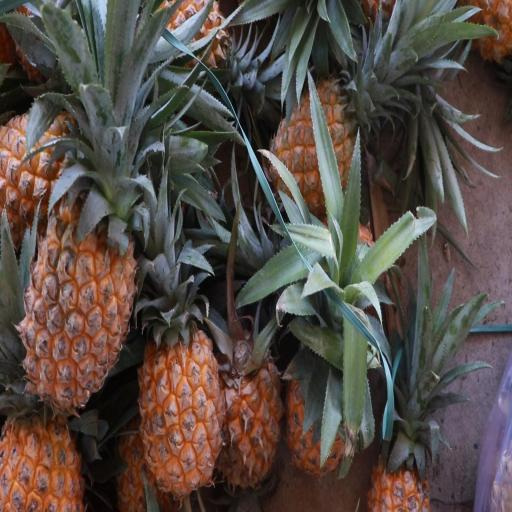Pineapple - v8 v1: (11, 170, 133, 413), (0, 90, 139, 239), (266, 70, 373, 232), (134, 318, 224, 500), (0, 366, 89, 512), (220, 318, 286, 493), (286, 326, 360, 482)
